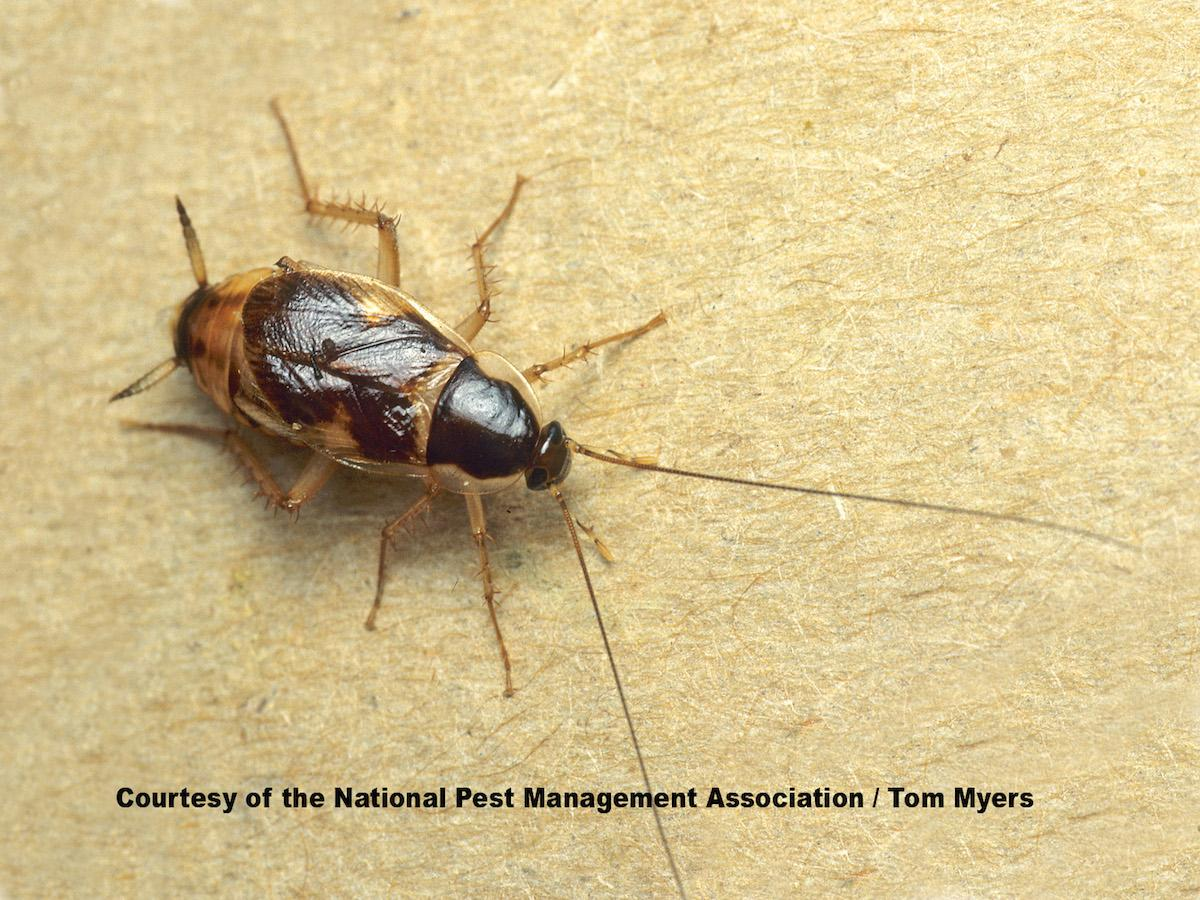cockroach: (173, 194, 583, 557)
